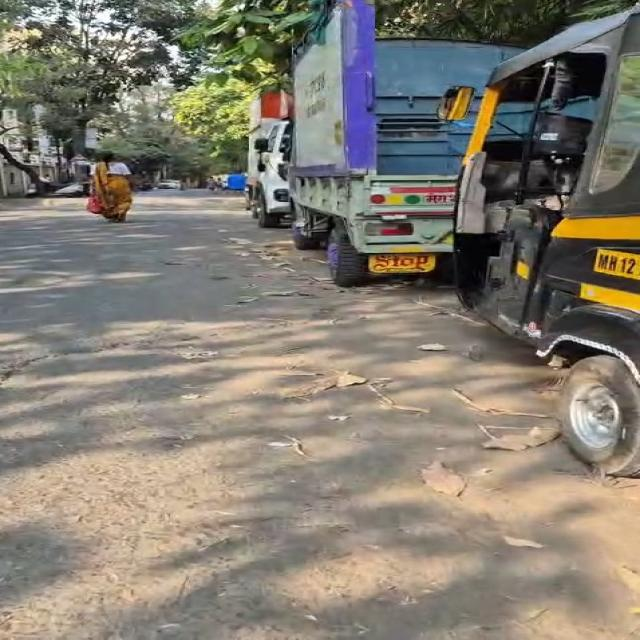bike: (92, 153, 132, 222)
